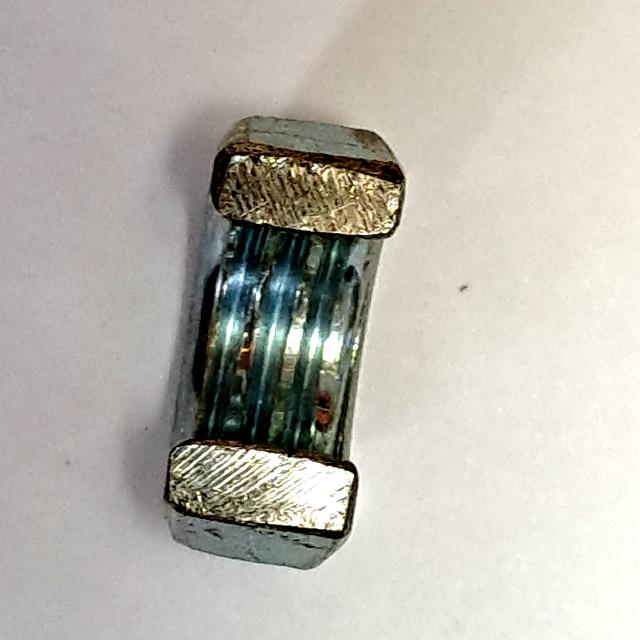Side-Fracture: (151, 105, 415, 583)
